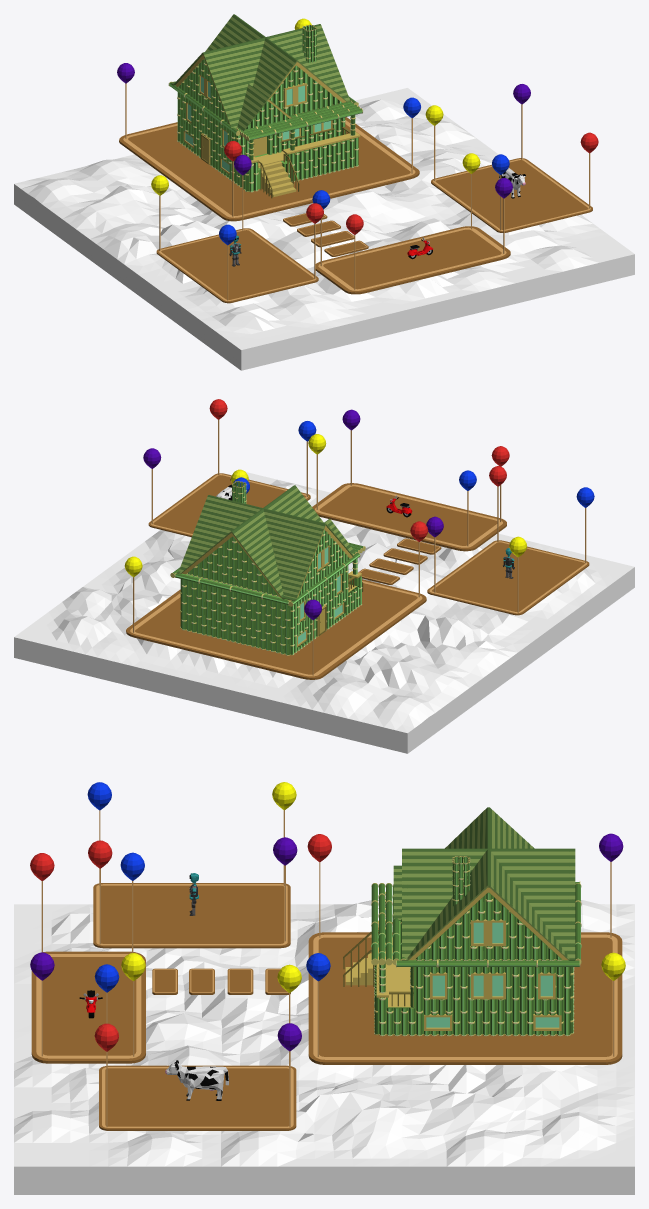
The picture shows the model from 3 angles, top to bottom: view 1: azimuth 30°, elevation 25°; view 2: azimuth 150°, elevation 25°; view 3: azimuth 270°, elevation 25°; orthographic projection. The views are drawn at different scales.
Visible parts, largest first — view 1: Cube.013, Cube.1327; view 2: Cube.013, Cube.1327; view 3: Cube.013, Cube.1327, ANIMAL_VACA.
Part boxes in pixels (bbox=[...]): Cube.013: bbox=[14, 18, 634, 370]; Cube.1327: bbox=[168, 14, 363, 198]; Cube.013: bbox=[14, 399, 634, 753]; Cube.1327: bbox=[170, 481, 365, 655]; Cube.013: bbox=[14, 782, 634, 1194]; Cube.1327: bbox=[343, 807, 581, 1036]; ANIMAL_VACA: bbox=[165, 1060, 228, 1100].
Bounding box in the file's own units: 4000 × 1697 × 4000.
Materials: 35 (2 with a texture image).
